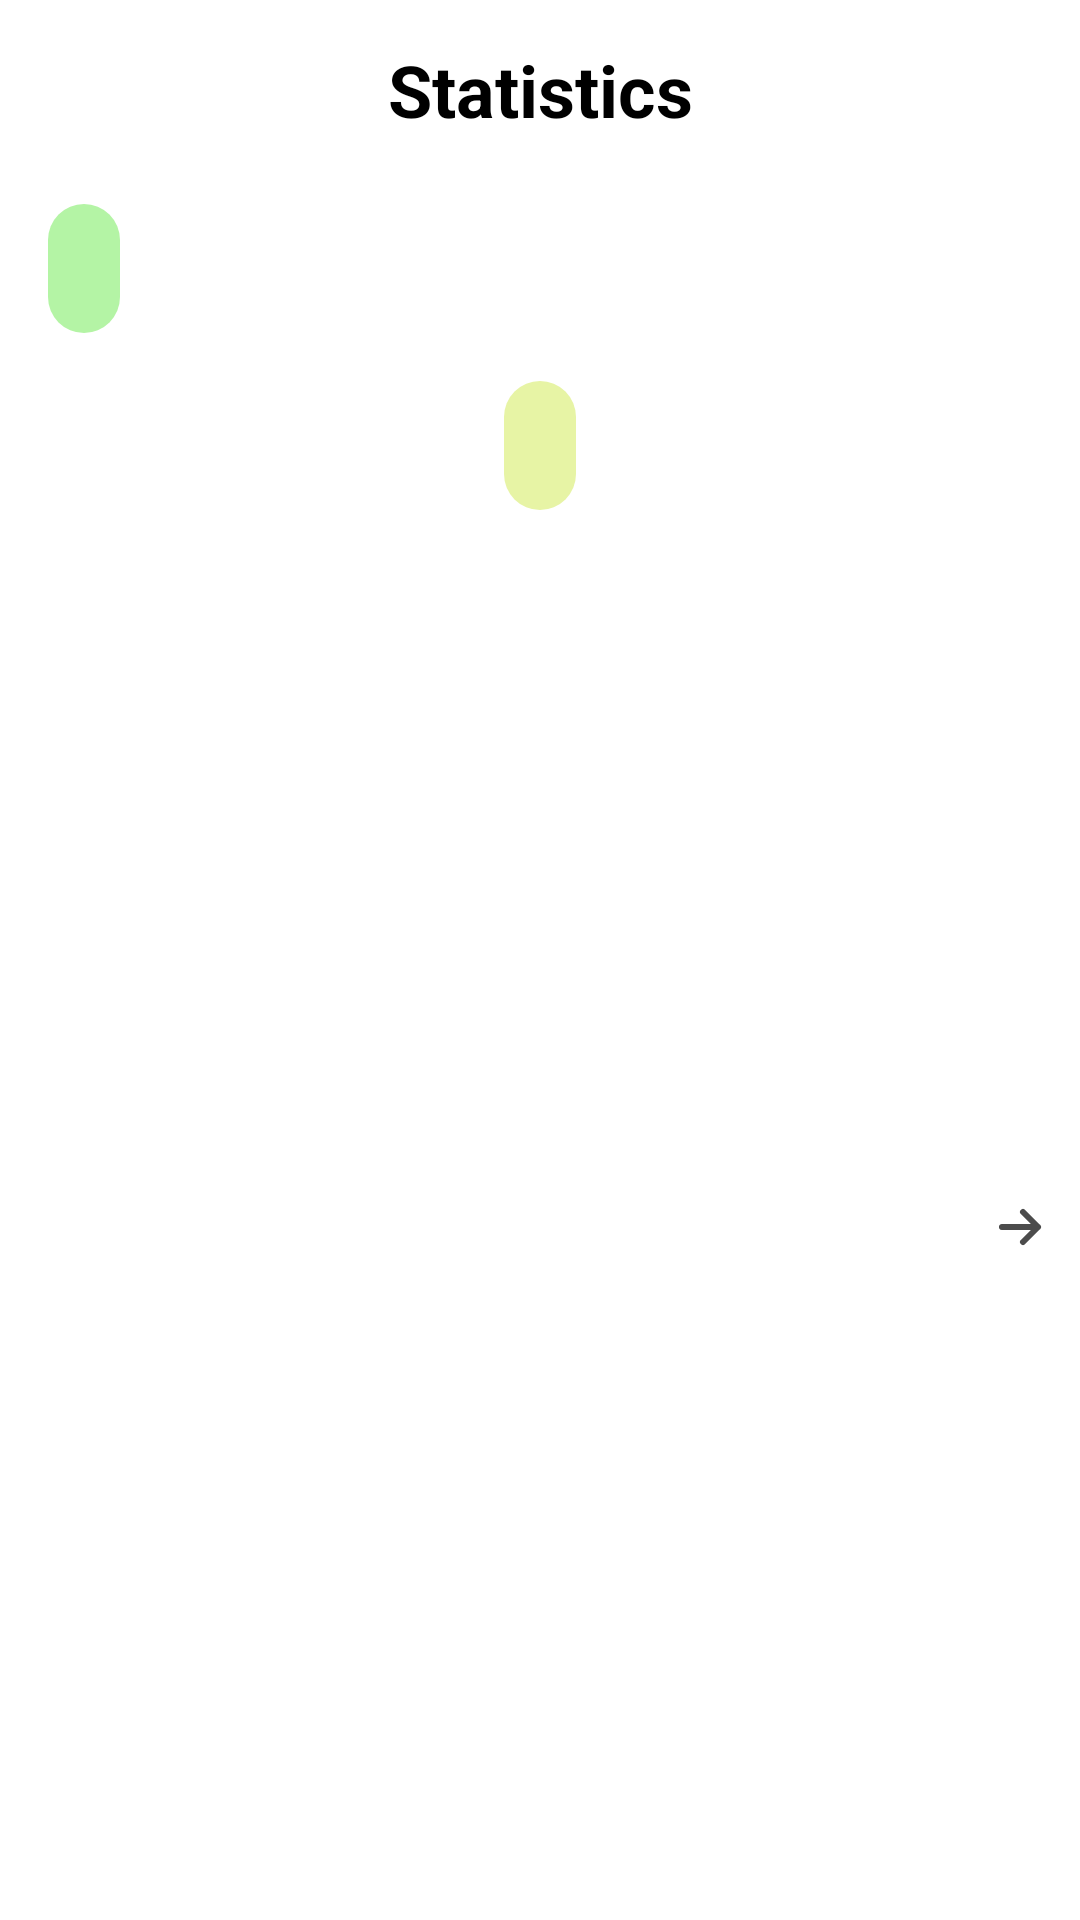

Icons on this 1080px x 1920px Android screen, each with the point to tap as [x,y]:
arrow right: [1020,1227]
